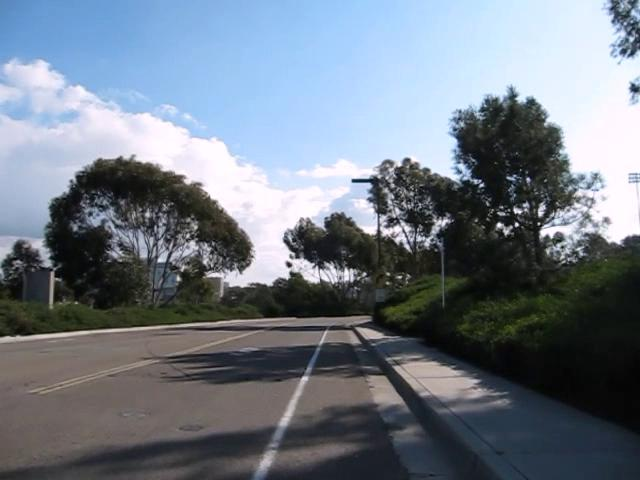speedLimitUrdbl: (374, 287, 387, 303)
